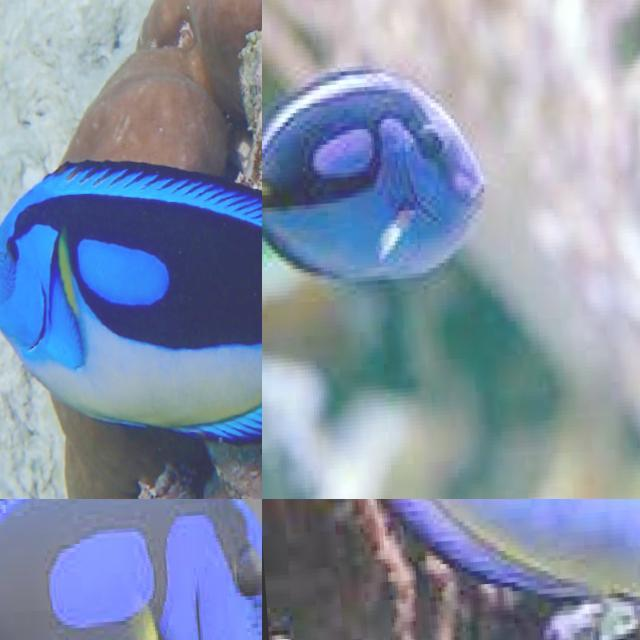BlueTang: (0, 158, 263, 445), (262, 69, 486, 282)
